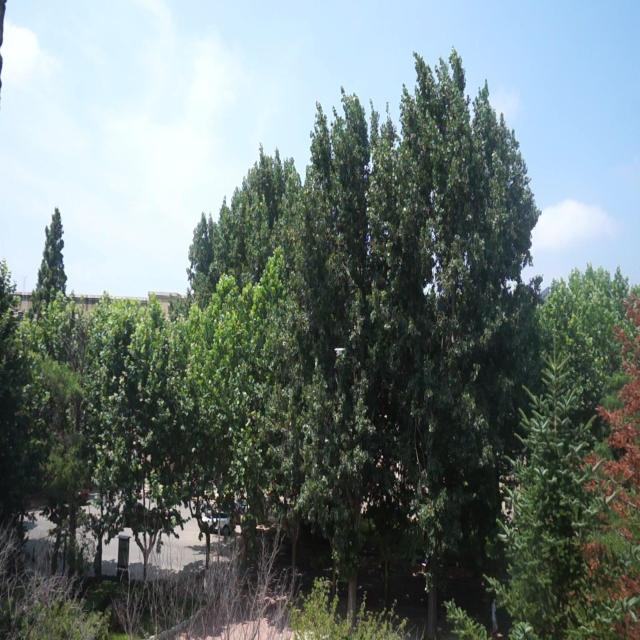drone: (331, 341, 348, 362)
